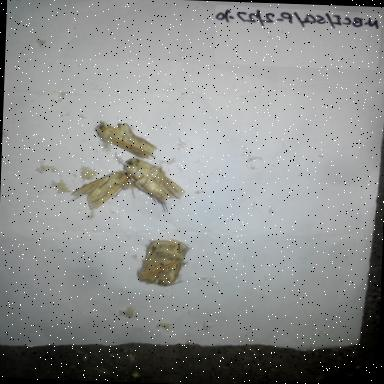abw: (116, 152, 190, 215), (83, 112, 164, 166), (132, 230, 198, 296), (63, 158, 138, 214)
